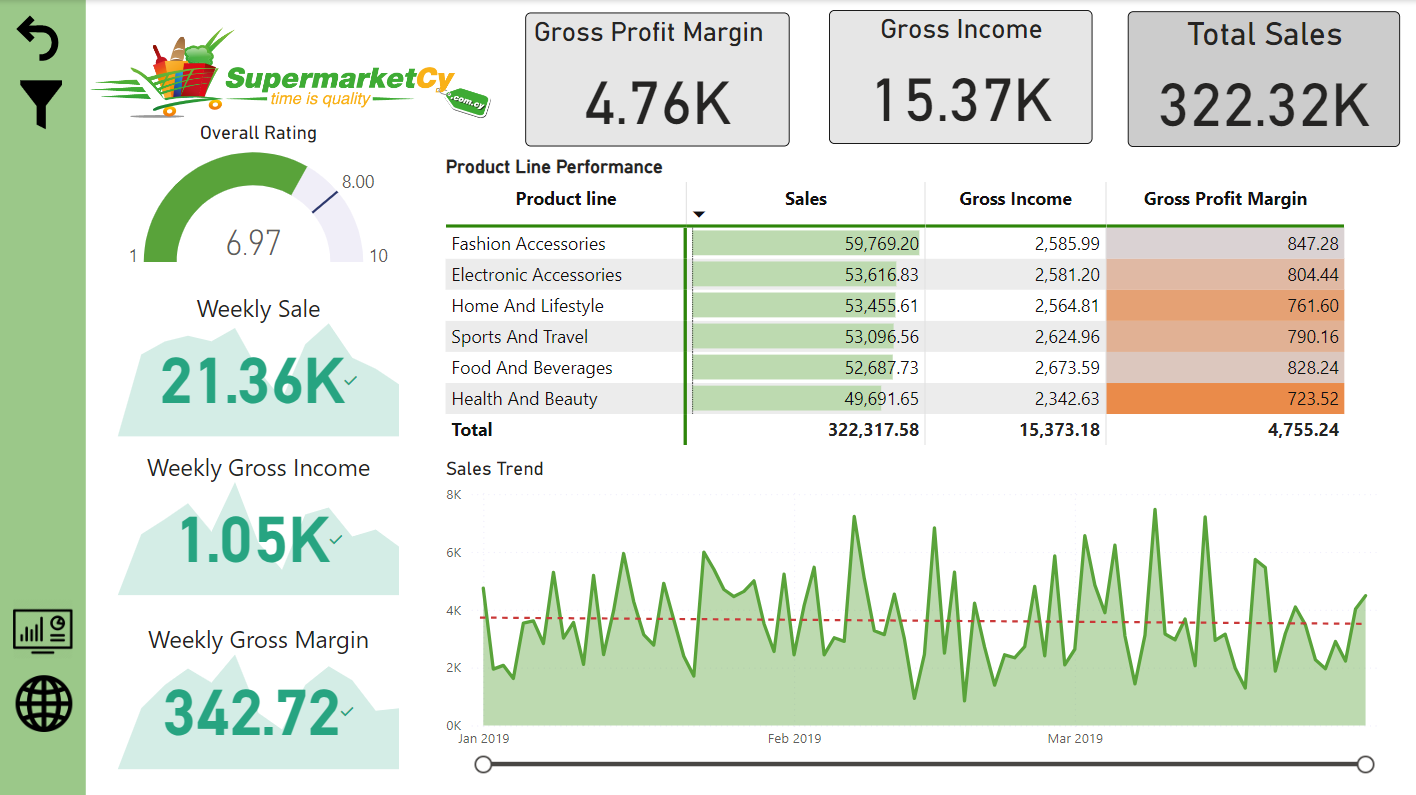

Layout of this report page (visuals, bound fields, positions):
{"tool":"powerbi","page":{"name":"Exec Dashboard","canvas":[1280,720],"ordinal":0},"visuals":[{"type":"shape","box":[0,0,78.3,720.2],"z":0},{"type":"shape","box":[0,0,237.9,720.7],"z":0,"group":"g1"},{"type":"slicer","fields":{"Values":["Supermarket_Dataset.Date.Variation.Date Hierarchy.Month"]},"box":[5.6,67.8,205.6,148.9],"z":1000,"group":"g1"},{"type":"gauge","title":"Overall Rating","fields":{"Y":["Avg(Supermarket_Dataset.Rating)"]},"box":[107.6,108.8,253.8,141.2],"z":1000},{"type":"pivotTable","title":"Product Line Performance","fields":{"Rows":["Supermarket_Dataset.Product line"],"Values":["Sum(Supermarket_Dataset.Total)","Sum(Supermarket_Dataset.gross income)","Sum(Supermarket_Dataset.gross margin percentage)"]},"box":[397.8,140,864.4,268.9],"z":2000},{"type":"slicer","fields":{"Values":["Supermarket_Dataset.Product line"]},"box":[5.6,249.1,206.3,219.8],"z":2000,"group":"g1"},{"type":"actionButton","box":[187,0,100.4,39.8],"z":3000,"group":"g1"},{"type":"card","title":"Total Sales","fields":{"Values":["Sum(Supermarket_Dataset.Total)"]},"box":[1017.5,9.8,245.3,122.6],"z":3000},{"type":"image","box":[78.3,17.1,370.5,97.8],"z":4000},{"type":"card","title":"Gross Income","fields":{"Values":["Sum(Supermarket_Dataset.gross income)"]},"box":[748.7,9.6,237.2,121.1],"z":5000},{"type":"card","title":"Gross Profit Margin","fields":{"Values":["Sum(Supermarket_Dataset.gross margin percentage)"]},"box":[474.8,10.8,238.5,121.1],"z":6000},{"type":"areaChart","title":"Sales Trend","fields":{"Category":["Supermarket_Dataset.Date.Variation.Date Hierarchy.Year","Supermarket_Dataset.Date.Variation.Date Hierarchy.Month","Supermarket_Dataset.Date.Variation.Date Hierarchy.Day"],"Y":["Sum(Supermarket_Dataset.Total)"]},"box":[397.8,412.2,865.6,287.8],"z":7000},{"type":"kpi","title":"Weekly Sale","fields":{"Indicator":["Sum(Supermarket_Dataset.Total)"],"TrendLine":["Supermarket_Dataset.Start of Week"],"Goal":["Supermarket_Dataset.PreviousMonthSales"]},"box":[107.6,262.5,253.8,131.2],"z":8000},{"type":"kpi","title":"Weekly Gross Income","fields":{"TrendLine":["Supermarket_Dataset.Start of Week"],"Goal":["Supermarket_Dataset.PreviousMonthSales"],"Indicator":["Sum(Supermarket_Dataset.gross income)"]},"box":[107.6,406.3,253.8,131.2],"z":9000},{"type":"kpi","title":"Weekly Gross Margin","fields":{"TrendLine":["Supermarket_Dataset.Start of Week"],"Goal":["Supermarket_Dataset.PreviousMonthSales"],"Indicator":["Sum(Supermarket_Dataset.gross margin percentage)"]},"box":[107.6,561.3,253.8,132.5],"z":10000},{"type":"image","box":[0,67.3,75.8,53.8],"z":11000},{"type":"actionButton","box":[9.8,8.6,53.8,50.1],"z":12000},{"type":"image","box":[7.5,517.5,63.8,100],"z":12500},{"type":"image","box":[10,587.5,61.2,93.8],"z":12750},{"type":"group","id":"g1","title":"Slicer","box":[0,0,287.5,720.7],"z":13000}]}

Visuals, with their boxes in screenshot pixels (x1, y1, x2, y2), scaled from the page's 1280x720 canvas onto the 1416x795 screenshot:
shape: crop(0, 0, 87, 794)
shape: crop(0, 0, 263, 794)
slicer - Supermarket_Dataset.Date.Variation.Date Hierarchy.Month: crop(6, 75, 234, 239)
"Overall Rating" gauge: crop(119, 120, 400, 276)
"Product Line Performance" pivotTable: crop(440, 155, 1396, 451)
slicer - Supermarket_Dataset.Product line: crop(6, 275, 234, 518)
actionButton: crop(207, 0, 318, 44)
"Total Sales" card: crop(1126, 11, 1397, 146)
image: crop(87, 19, 496, 127)
"Gross Income" card: crop(828, 11, 1091, 144)
"Gross Profit Margin" card: crop(525, 12, 789, 146)
"Sales Trend" areaChart: crop(440, 455, 1398, 773)
"Weekly Sale" kpi: crop(119, 290, 400, 435)
"Weekly Gross Income" kpi: crop(119, 449, 400, 593)
"Weekly Gross Margin" kpi: crop(119, 620, 400, 766)
image: crop(0, 74, 84, 134)
actionButton: crop(11, 9, 70, 65)
image: crop(8, 571, 79, 682)
image: crop(11, 649, 79, 752)
"Slicer" group: crop(0, 0, 318, 794)
